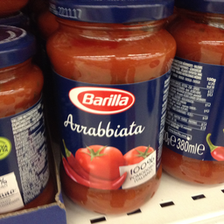tomato_sauce: (45, 1, 177, 215), (164, 2, 224, 186)
